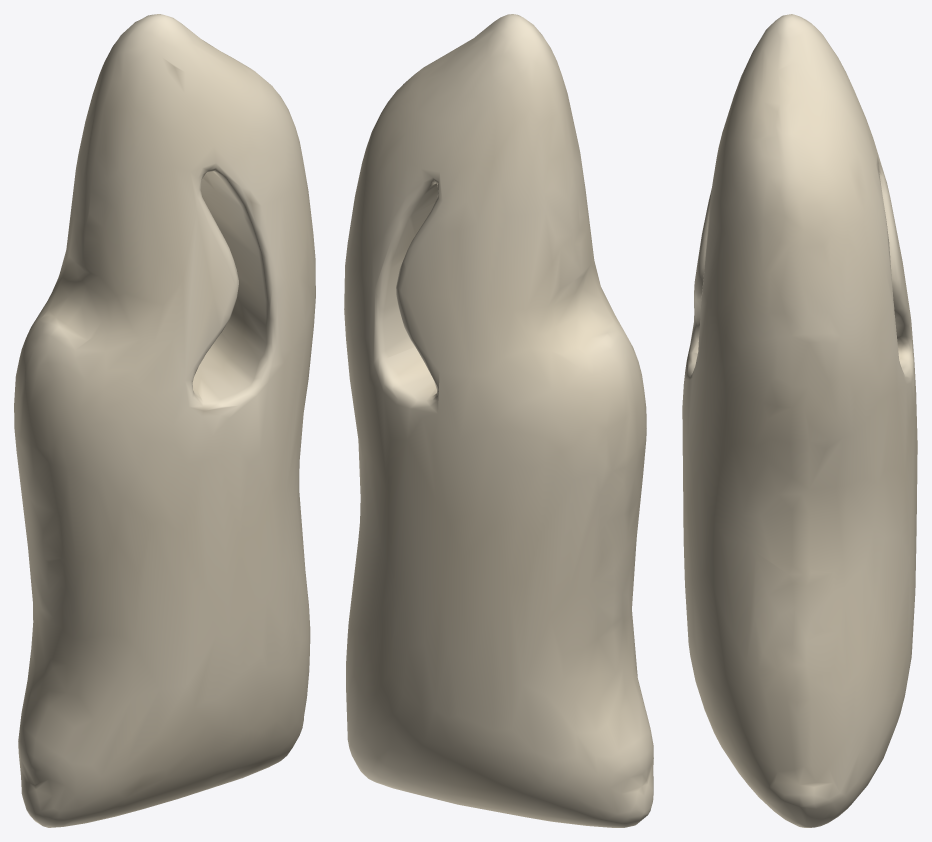
Rendered from lumen_kral_bila.glb.
The picture shows the model from 3 angles, left to right: view 1: azimuth 30°, elevation 25°; view 2: azimuth 150°, elevation 25°; view 3: azimuth 270°, elevation 25°; orthographic projection. The views are drawn at different scales.
Parts seen in each view (by area): view 1: Lumen kral bila; view 2: Lumen kral bila; view 3: Lumen kral bila.
Part boxes in pixels (box(x1,y1,x2,y2)): Lumen kral bila: box(14, 14, 315, 827); Lumen kral bila: box(344, 14, 653, 827); Lumen kral bila: box(682, 14, 917, 827).
Size of the model in its own units: 0.0361 by 0.0957 by 0.0271.
